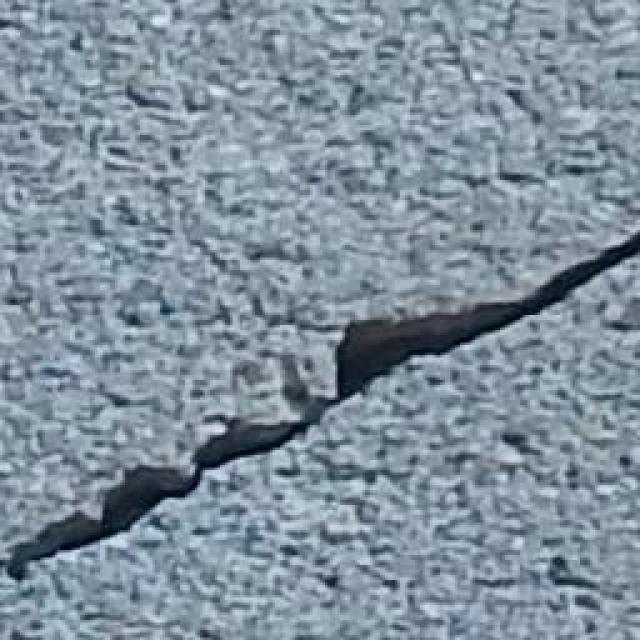concrete-crack: (4, 229, 640, 582)
